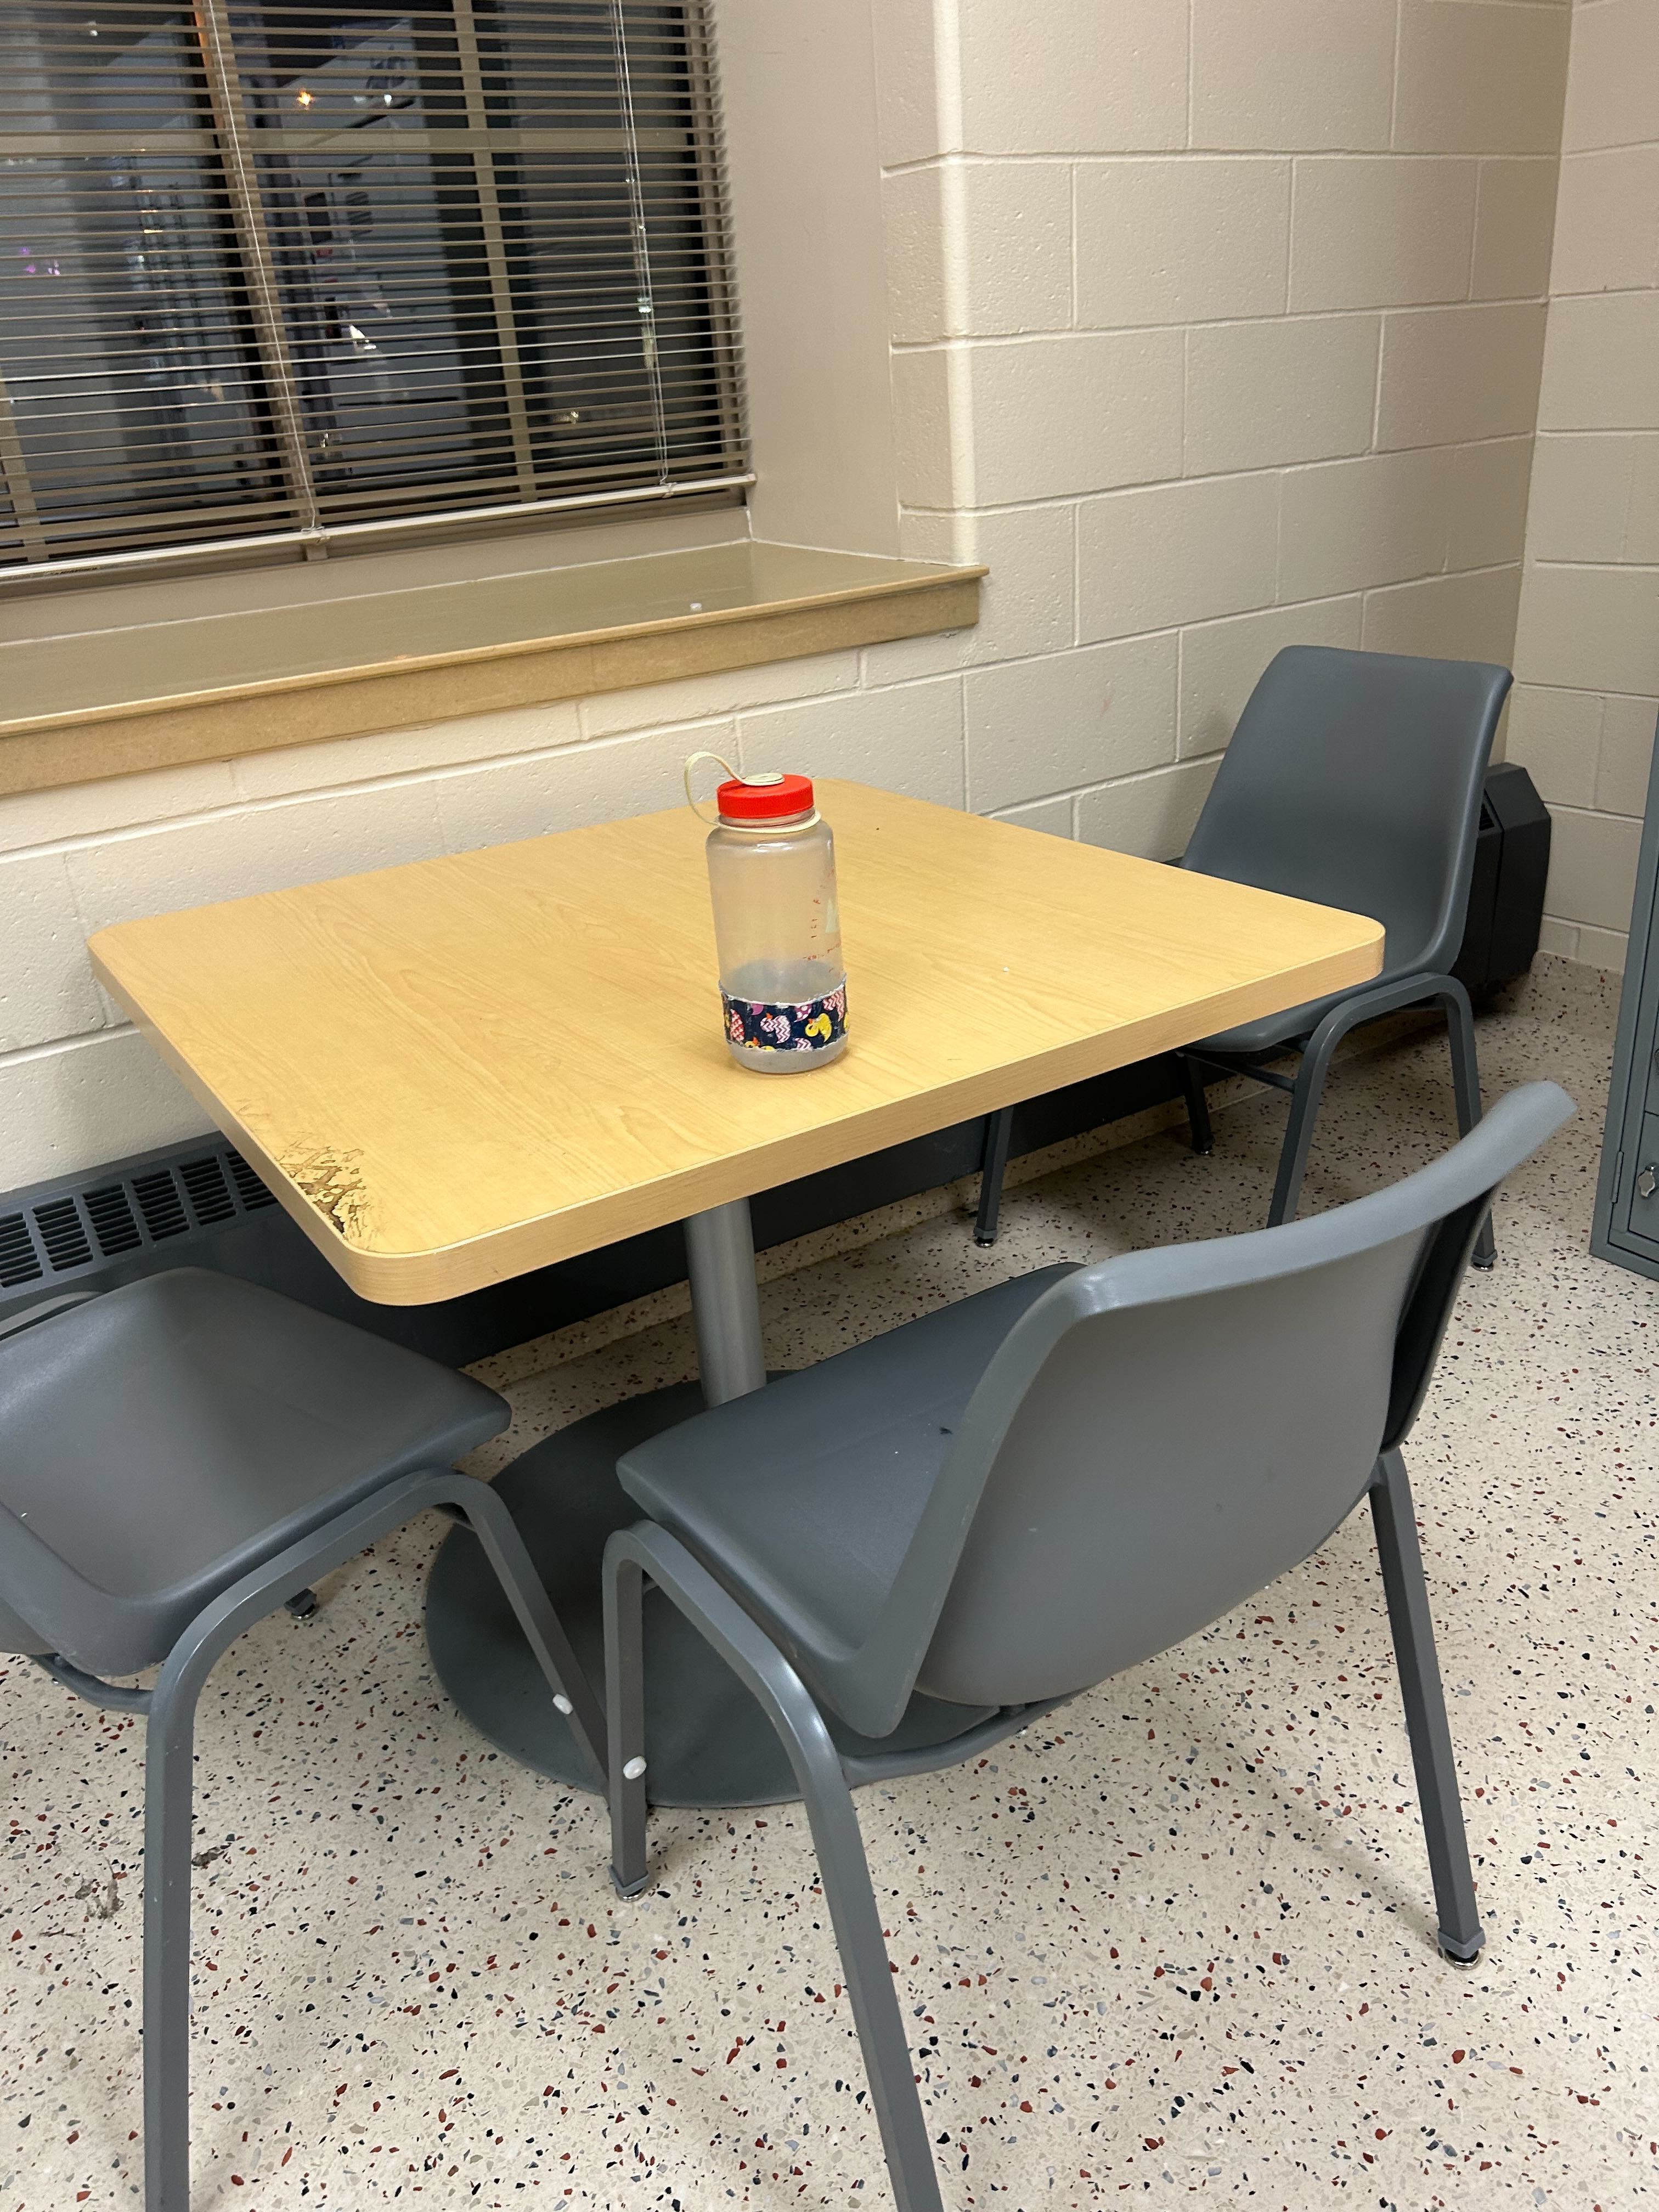bottle: (680, 735, 852, 1082)
